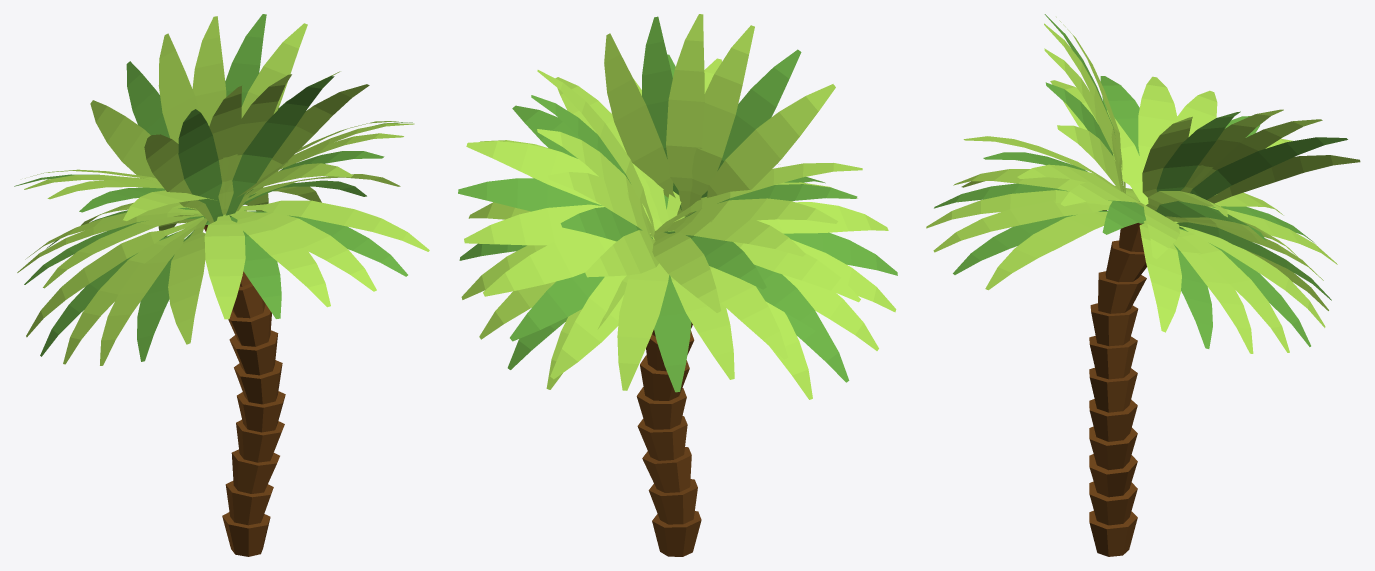
Rendered from palm-1.fbx.
The picture shows the model from 3 angles, left to right: view 1: azimuth 30°, elevation 25°; view 2: azimuth 150°, elevation 25°; view 3: azimuth 270°, elevation 25°; orthographic projection. The views are drawn at different scales.
Parts seen in each view (by area): view 1: palm-1; view 2: palm-1; view 3: palm-1.
Boxes of the visible parts, bbox=[...] form: palm-1: bbox=[14, 14, 429, 556]; palm-1: bbox=[458, 14, 897, 556]; palm-1: bbox=[926, 14, 1360, 556].
Bounding box in the file's own units: 2.48 × 3.19 × 2.48.
